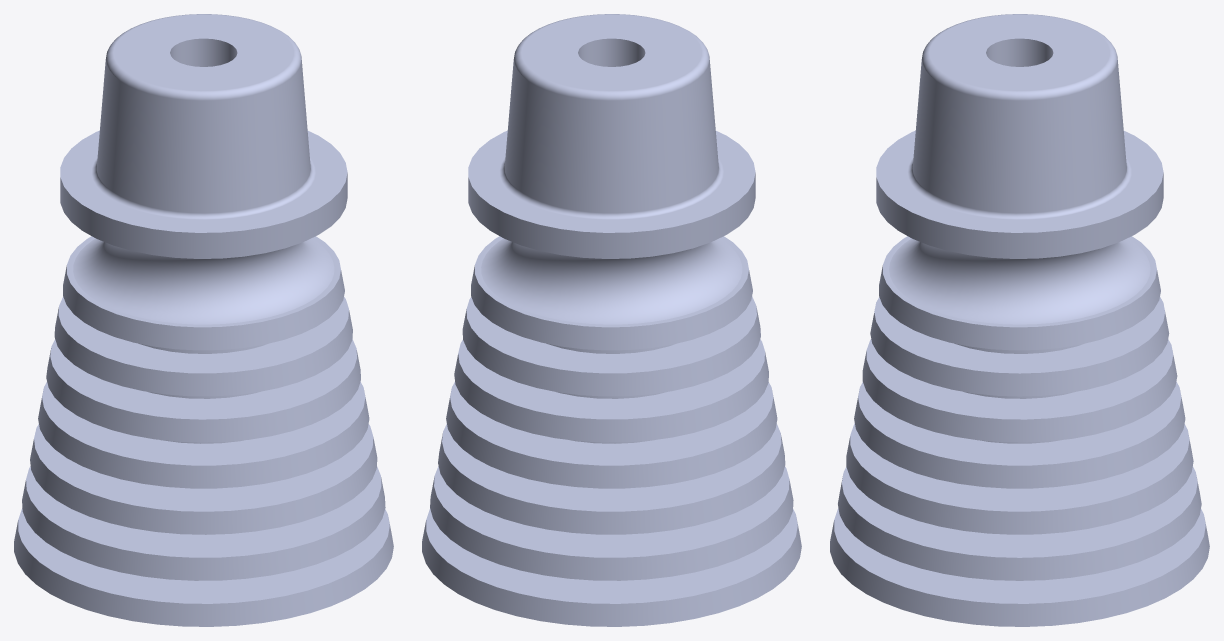
Rendered from Post 1.0' Concentric Fin (C-951-4).fbx.
3 renders of one model, left to right at view 1: azimuth 30°, elevation 25°; view 2: azimuth 150°, elevation 25°; view 3: azimuth 270°, elevation 25°, orthographic.
Parts seen in each view (by area): view 1: Post 1.0' Concentric Fin (C-951-4); view 2: Post 1.0' Concentric Fin (C-951-4); view 3: Post 1.0' Concentric Fin (C-951-4).
Part boxes in pixels (x1,y1,x2,y2): Post 1.0' Concentric Fin (C-951-4): [14, 14, 393, 626]; Post 1.0' Concentric Fin (C-951-4): [422, 14, 801, 626]; Post 1.0' Concentric Fin (C-951-4): [830, 14, 1209, 626].
Size of the model in its own units: 1.85 by 2.65 by 1.84.
